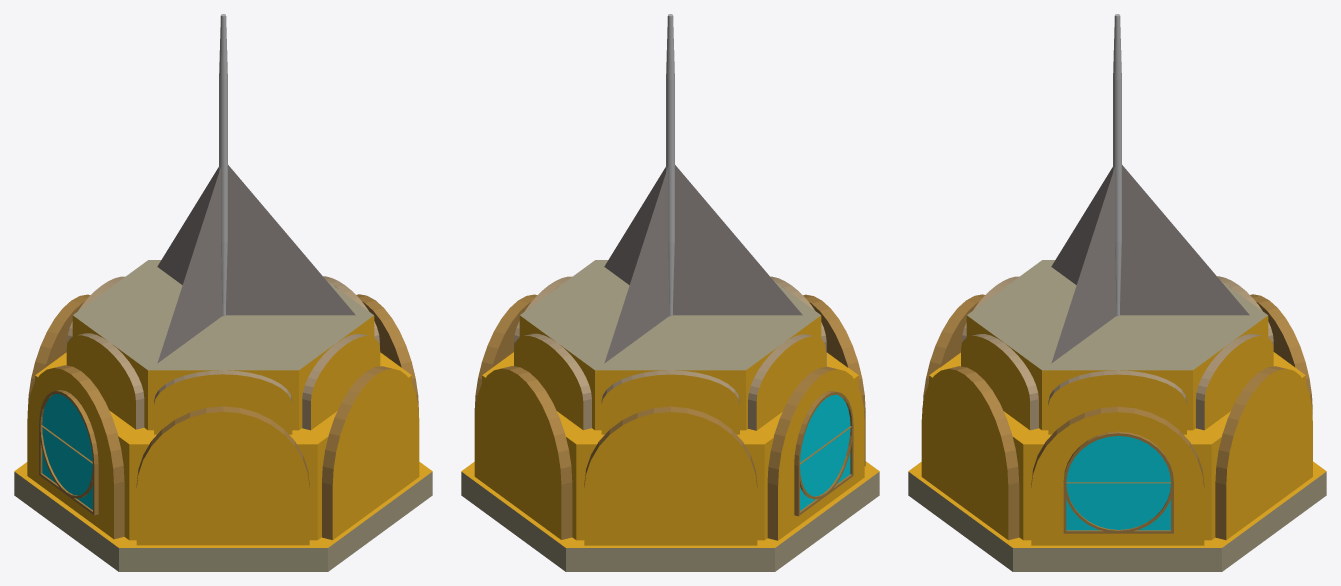
Rendered from blok puncak.glb.
3 renders of one model, left to right at view 1: azimuth 30°, elevation 25°; view 2: azimuth 150°, elevation 25°; view 3: azimuth 270°, elevation 25°, orthographic.
Parts seen in each view (by area): view 1: Cylinder.003, Circle.010, Cone, Cylinder.002, Cylinder.005, Cylinder; view 2: Cylinder.003, Circle.010, Cone, Cylinder.002, Cylinder.005, Cylinder; view 3: Cylinder.003, Circle.010, Cone, Cylinder.002, Cylinder.006, Cylinder.
Boxes of the visible parts, bbox=[...] form: Cylinder.003: bbox=[27, 294, 419, 545]; Circle.010: bbox=[14, 260, 432, 571]; Cone: bbox=[157, 165, 355, 363]; Cylinder.002: bbox=[66, 276, 380, 434]; Cylinder.005: bbox=[39, 390, 98, 515]; Cylinder: bbox=[219, 14, 227, 316]; Cylinder.003: bbox=[474, 294, 865, 545]; Circle.010: bbox=[461, 260, 879, 571]; Cone: bbox=[604, 165, 802, 363]; Cylinder.002: bbox=[514, 276, 826, 434]; Cylinder.005: bbox=[794, 391, 853, 516]; Cylinder: bbox=[666, 14, 674, 316]; Cylinder.003: bbox=[921, 294, 1312, 545]; Circle.010: bbox=[908, 260, 1326, 571]; Cone: bbox=[1051, 165, 1249, 363]; Cylinder.002: bbox=[961, 276, 1273, 434]; Cylinder.006: bbox=[1063, 431, 1173, 533]; Cylinder: bbox=[1113, 14, 1121, 316].
Bounding box in the file's own units: 2.74 × 4 × 3.16.
